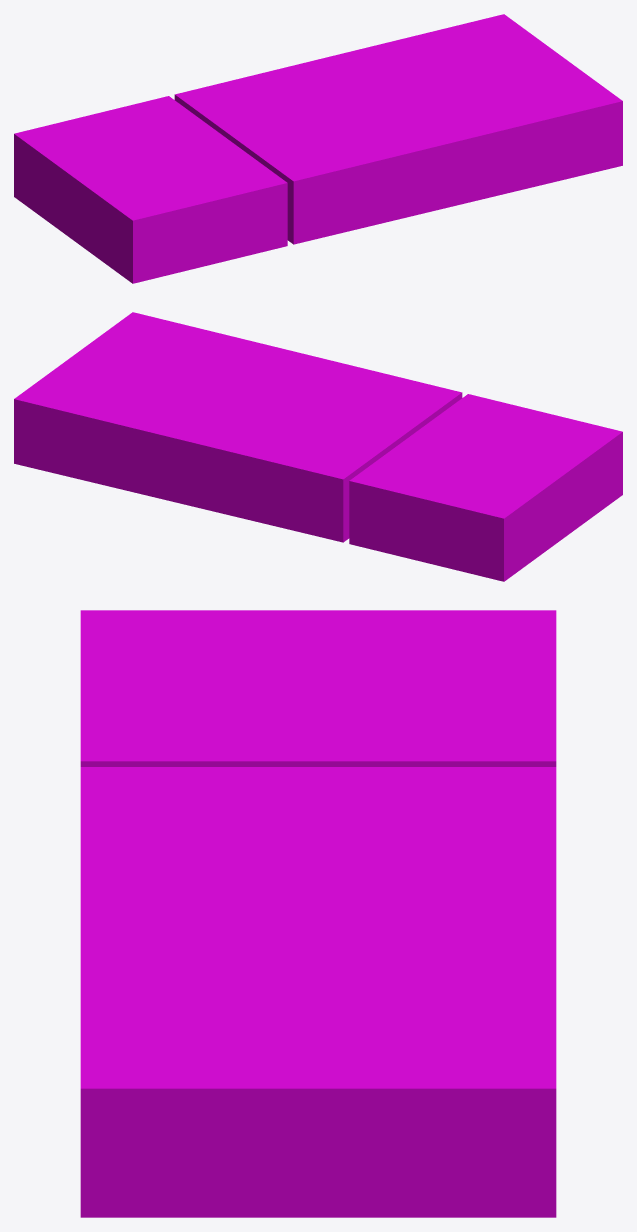
File: location3v.fbx
3 views of the same model, one above another, from view 1: azimuth 30°, elevation 25°; view 2: azimuth 150°, elevation 25°; view 3: azimuth 270°, elevation 25° (orthographic). The views are drawn at different scales.
Visible parts, largest first — view 1: pasted__top_in, pasted__walls_in, pasted__top_out, pasted__walls_out; view 2: pasted__top_in, pasted__walls_in, pasted__top_out, pasted__walls_out; view 3: pasted__top_in, pasted__top_out, pasted__walls_in, pasted__walls_out.
Boxes of the visible parts, <box> form: pasted__top_in: <box>175,14,622,181</box>; pasted__walls_in: <box>174,94,622,244</box>; pasted__top_out: <box>14,96,287,220</box>; pasted__walls_out: <box>14,134,287,283</box>; pasted__top_in: <box>14,312,461,479</box>; pasted__walls_in: <box>14,392,462,542</box>; pasted__top_out: <box>349,394,622,518</box>; pasted__walls_out: <box>349,432,622,581</box>; pasted__top_in: <box>80,767,556,1088</box>; pasted__top_out: <box>80,610,556,761</box>; pasted__walls_in: <box>80,1088,556,1217</box>; pasted__walls_out: <box>80,761,556,766</box>.
Bounding box in the file's own units: 4763 × 600 × 2000.
